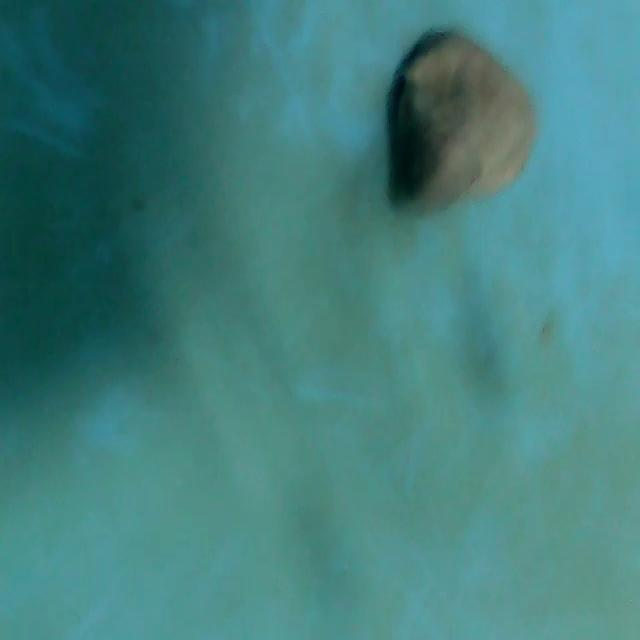rock: (382, 28, 536, 223)
